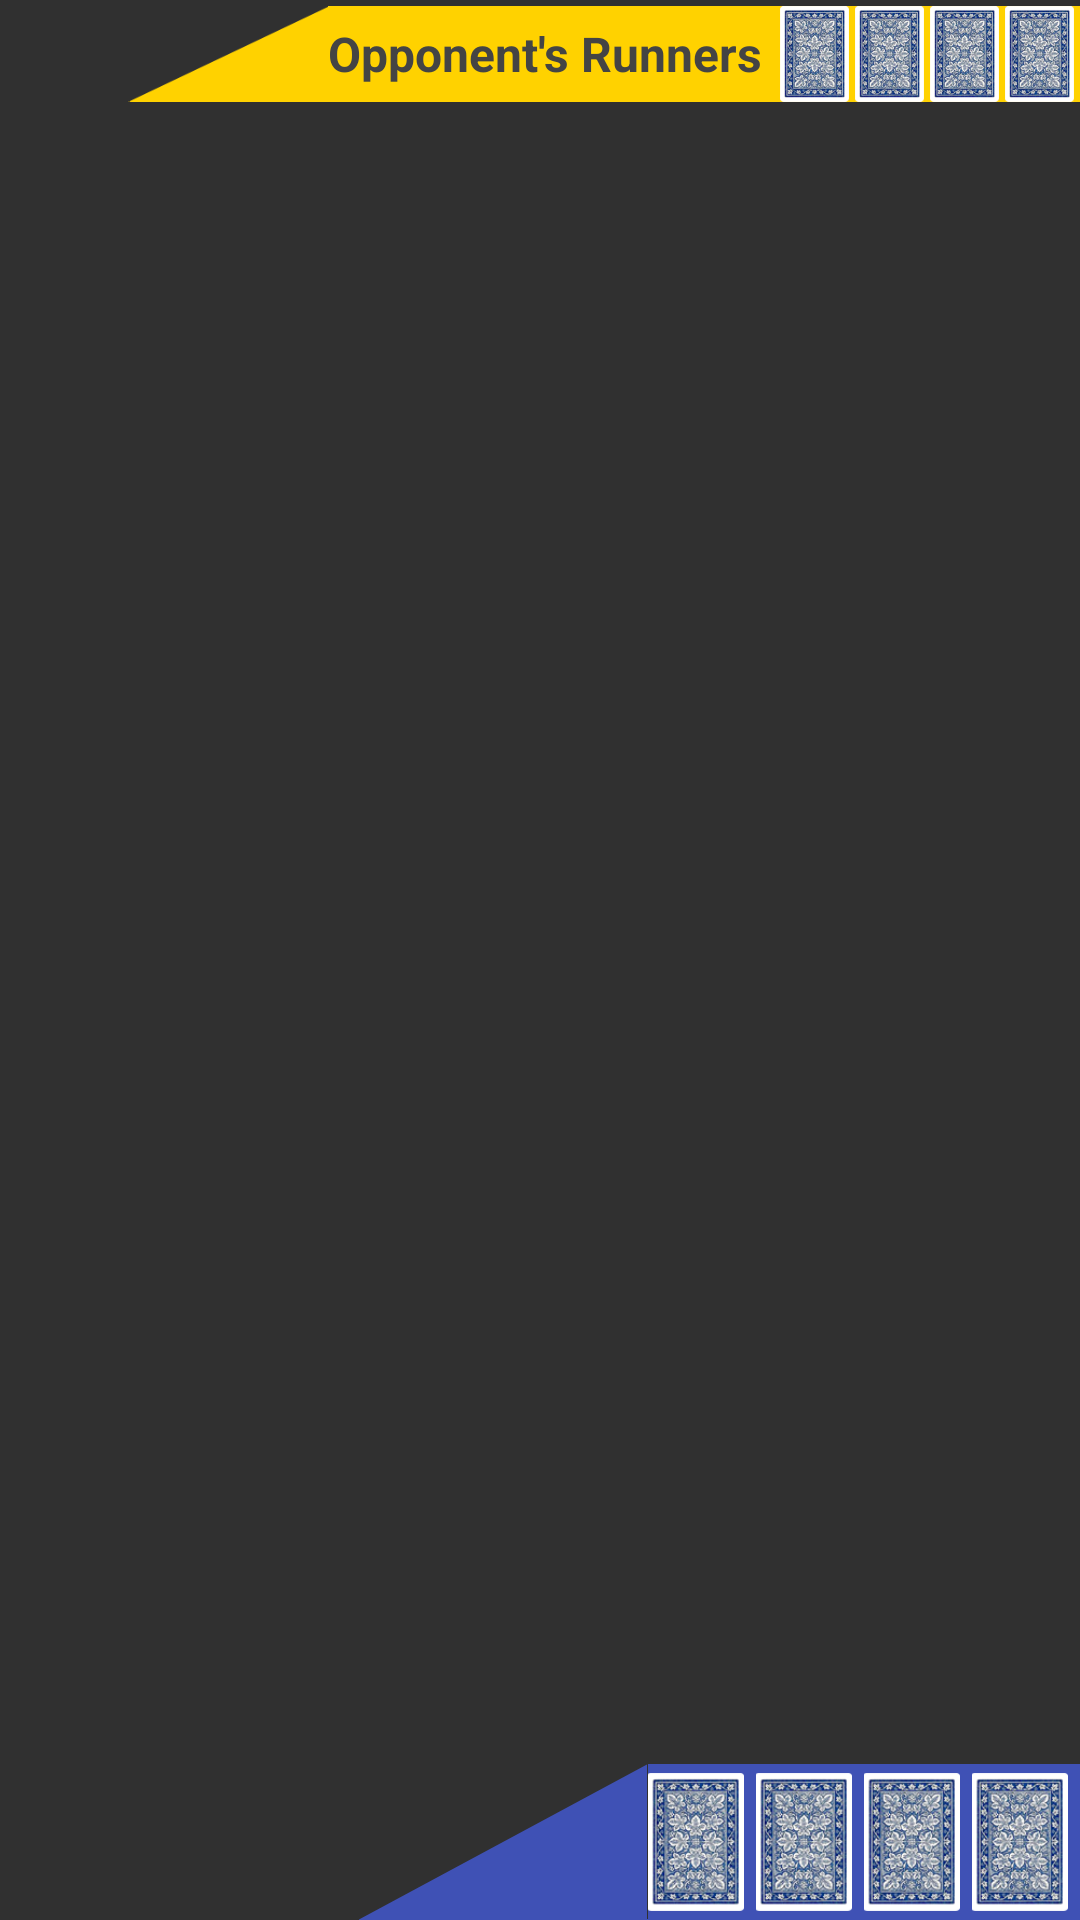

Named icons in this screenshot (1080x1920) and their centers, (x=x, y=y):
card back: (x=814, y=54), (x=889, y=54), (x=964, y=54), (x=1039, y=54), (x=696, y=1842), (x=804, y=1842), (x=912, y=1842), (x=1020, y=1842)
